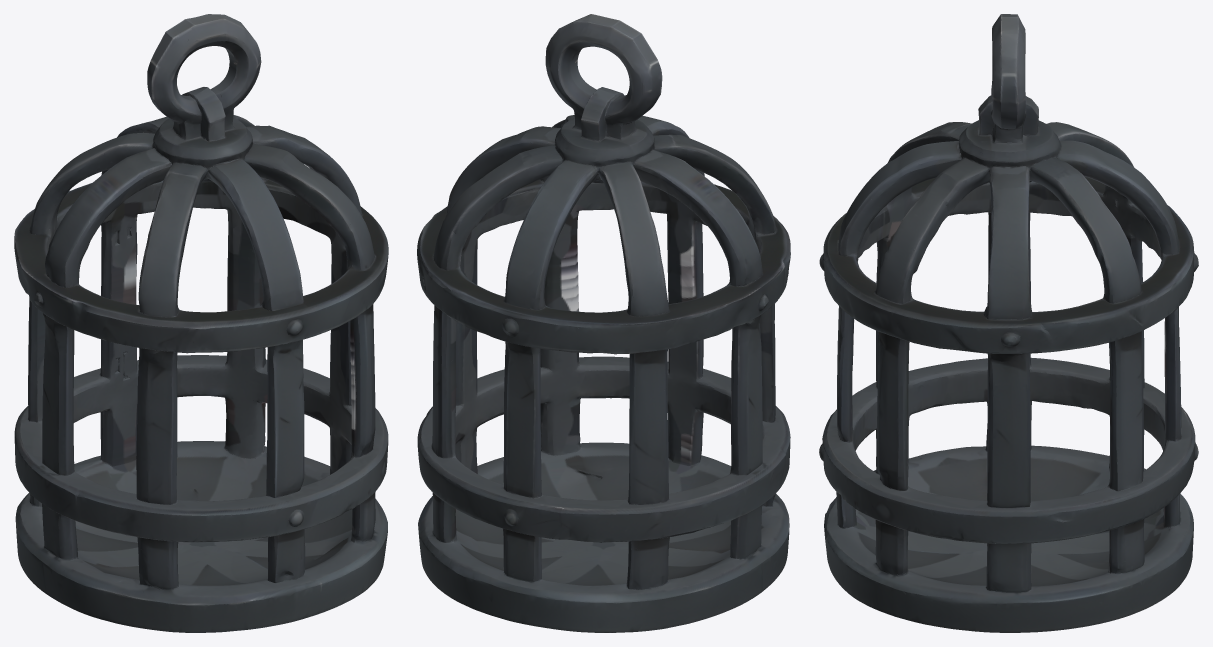
The model's file is base_basic_pbr.fbx.
3 renders of one model, left to right at view 1: azimuth 30°, elevation 25°; view 2: azimuth 150°, elevation 25°; view 3: azimuth 270°, elevation 25°, orthographic.
Visible parts, largest first — view 1: model; view 2: model; view 3: model.
Part boxes in pixels (left/top/right/bottom): model: left=14, top=14, right=388, bottom=632; model: left=417, top=14, right=790, bottom=632; model: left=819, top=14, right=1198, bottom=632.
Bounding box in the file's own units: 122 × 190 × 122.
1 material, 1 textured.
